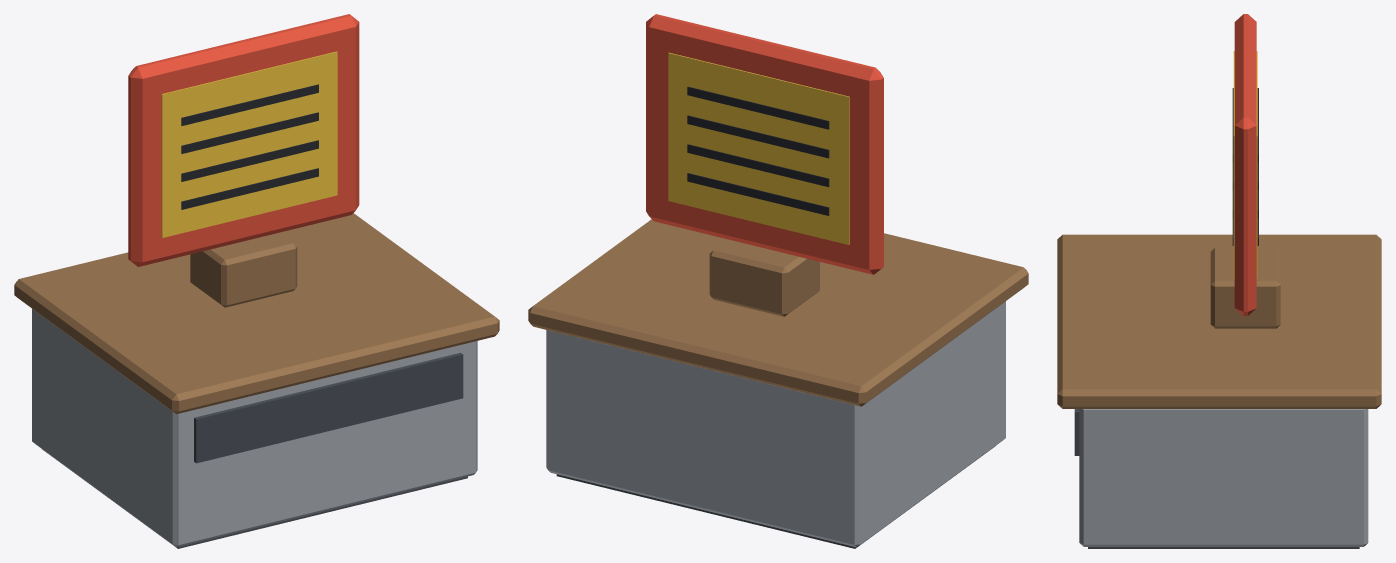
Rendered from poster_p1_4.glb.
3 renders of one model, left to right at view 1: azimuth 30°, elevation 25°; view 2: azimuth 150°, elevation 25°; view 3: azimuth 270°, elevation 25°, orthographic. The views are drawn at different scales.
Parts seen in each view (by area): view 1: poster_p1_4_mesh_Desk, poster_p1_4_mesh; view 2: poster_p1_4_mesh_Desk, poster_p1_4_mesh; view 3: poster_p1_4_mesh_Desk, poster_p1_4_mesh.
Boxes of the visible parts, <box> form: poster_p1_4_mesh_Desk: <box>14,213,499,548</box>; poster_p1_4_mesh: <box>128,14,359,307</box>; poster_p1_4_mesh_Desk: <box>528,219,1028,548</box>; poster_p1_4_mesh: <box>646,14,883,316</box>; poster_p1_4_mesh_Desk: <box>1057,234,1381,548</box>; poster_p1_4_mesh: <box>1210,14,1280,328</box>.
Size of the model in its own units: 0.86 by 1.04 by 0.74.
